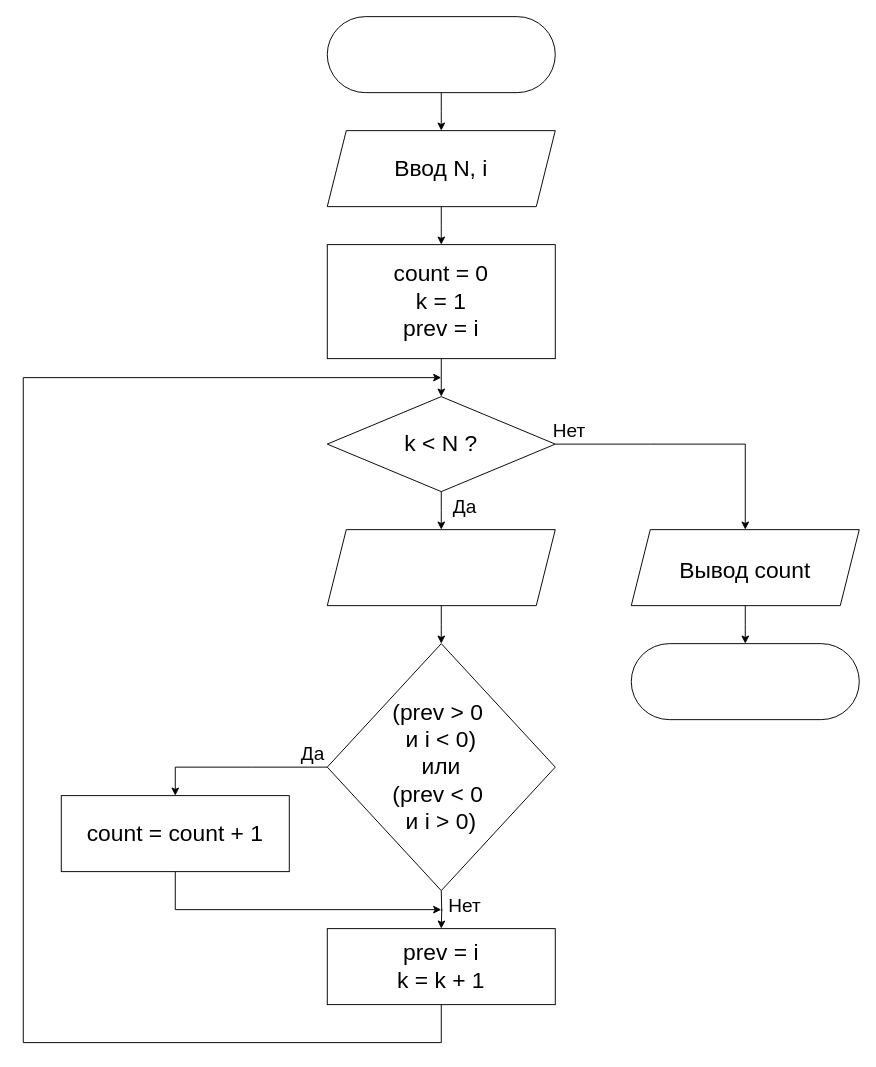
This 876x1067 diagram has some shape labels left out. The shapes that lost their labels are listed below. From the top down, each one's box as (x1, y1, x2, y2) in pixels, then its label:
(326, 16, 555, 93): Начало
(326, 529, 555, 606): Ввод i
(630, 643, 859, 720): Конец
